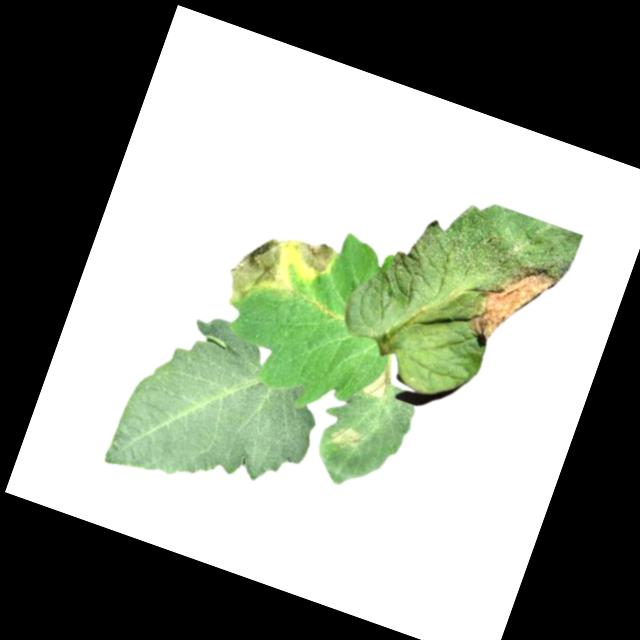Late_blight: (461, 245, 563, 360), (215, 224, 293, 317), (281, 232, 339, 281), (361, 357, 395, 399), (328, 421, 365, 454)
healthy: (101, 296, 339, 525)
